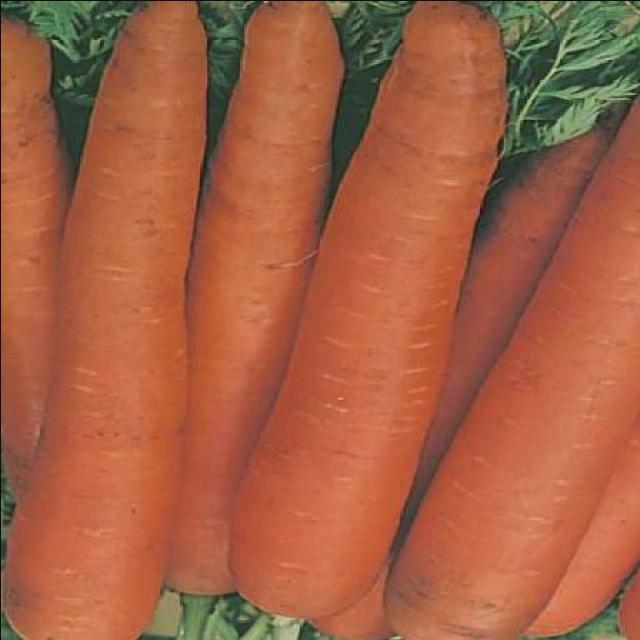carrot: (227, 2, 506, 626), (380, 86, 640, 640), (1, 1, 204, 640)
